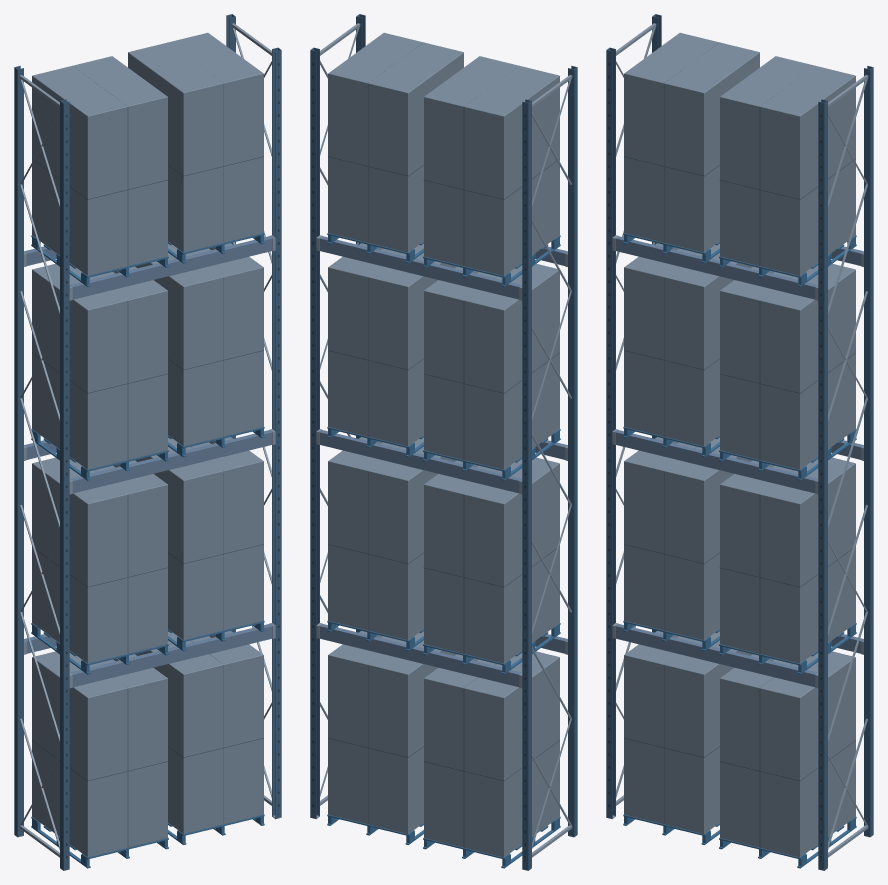
File: SM_GHS_CADRack_A_W27219.fbx
3 renders of one model, left to right at view 1: azimuth 30°, elevation 25°; view 2: azimuth 150°, elevation 25°; view 3: azimuth 330°, elevation 25°, orthographic.
Visible parts, largest first — view 1: SM_GHS_CADRack_A_W27219; view 2: SM_GHS_CADRack_A_W27219; view 3: SM_GHS_CADRack_A_W27219.
Boxes of the visible parts, <box> form: SM_GHS_CADRack_A_W27219: <box>14,14,281,870</box>; SM_GHS_CADRack_A_W27219: <box>310,14,577,870</box>; SM_GHS_CADRack_A_W27219: <box>606,14,873,870</box>.
Bounding box in the file's own units: 272 × 122 × 915.
